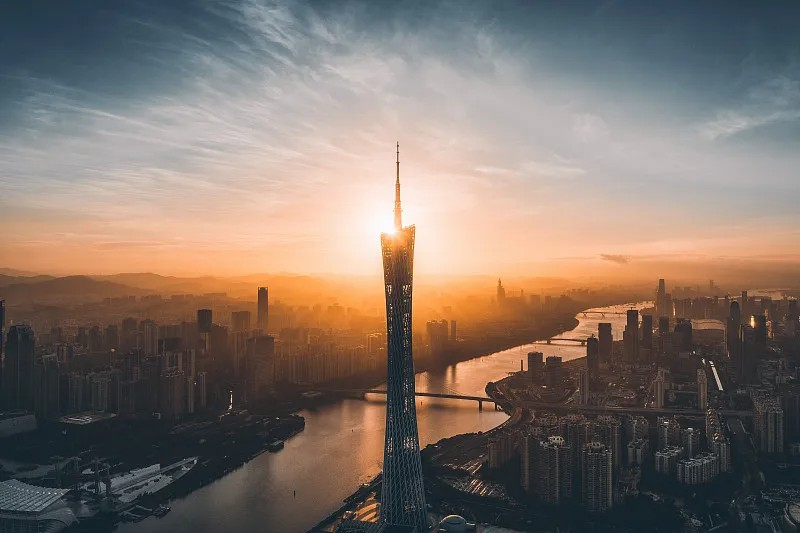Canton: (379, 142, 430, 528)
